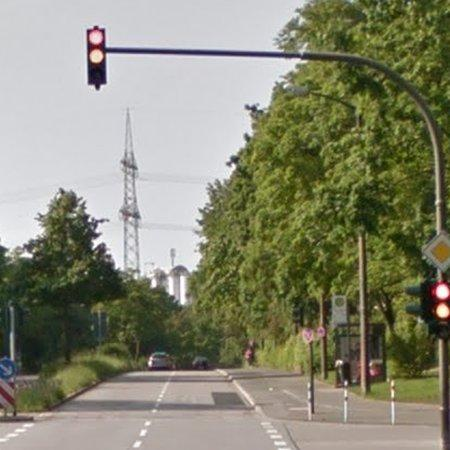traffic lights: (87, 26, 107, 90)
